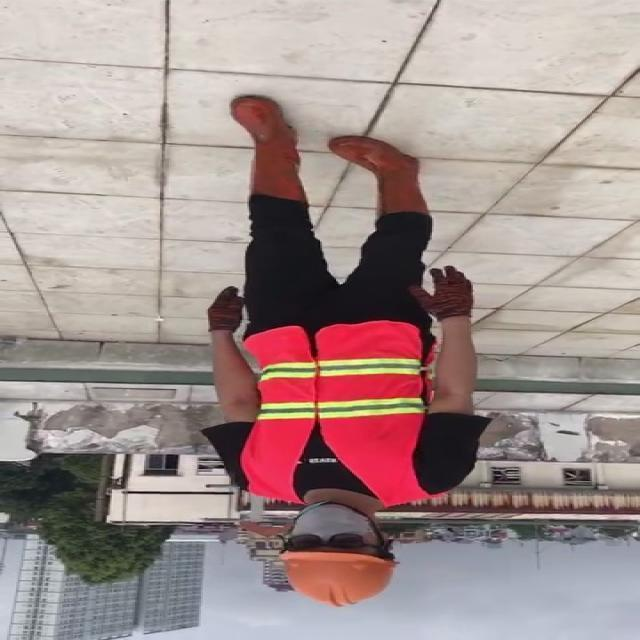Boots: (328, 135, 428, 216), (233, 97, 304, 199)
Gloves: (406, 264, 481, 319), (203, 283, 252, 339)
Helmet: (274, 551, 400, 606)
Vest: (242, 322, 425, 504)
